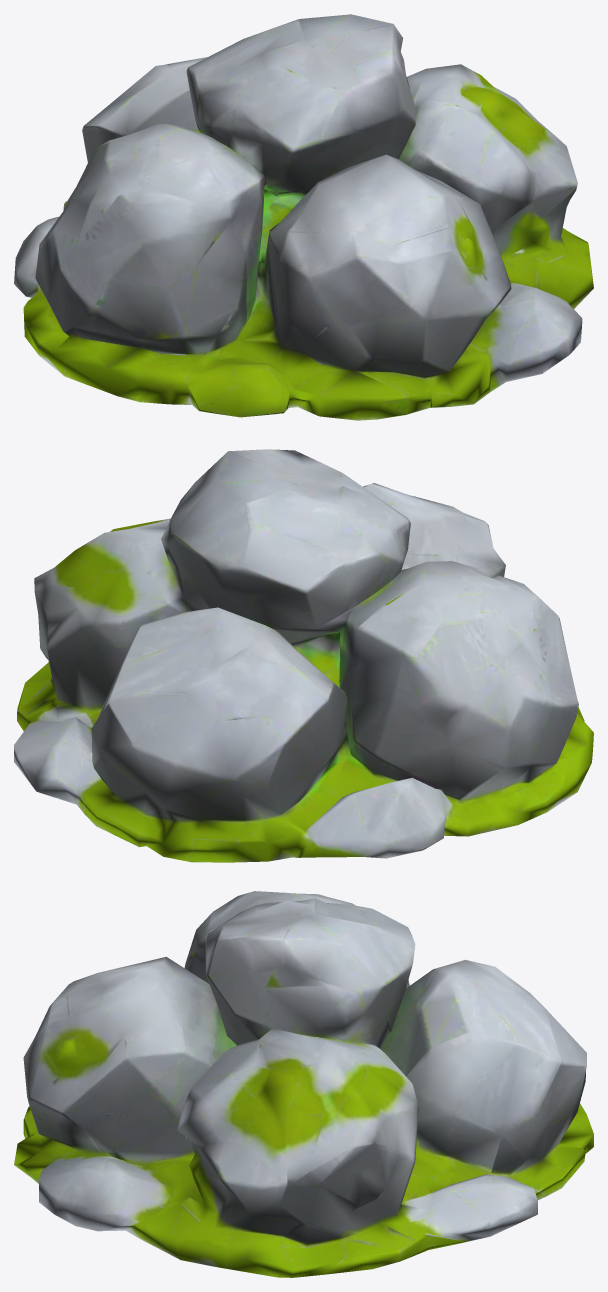
File: boulder.glb
3 views of the same model, one above another, from view 1: azimuth 30°, elevation 25°; view 2: azimuth 150°, elevation 25°; view 3: azimuth 270°, elevation 25° (orthographic). The views are drawn at different scales.
Parts seen in each view (by area): view 1: 0; view 2: 0; view 3: 0.
Part boxes in pixels (left/top/right/bottom): 0: left=14, top=14, right=593, bottom=420; 0: left=14, top=449, right=593, bottom=862; 0: left=14, top=891, right=593, bottom=1277.
Bounding box in the file's own units: 1.89 × 0.9236 × 1.91.
1 material, 1 textured.
